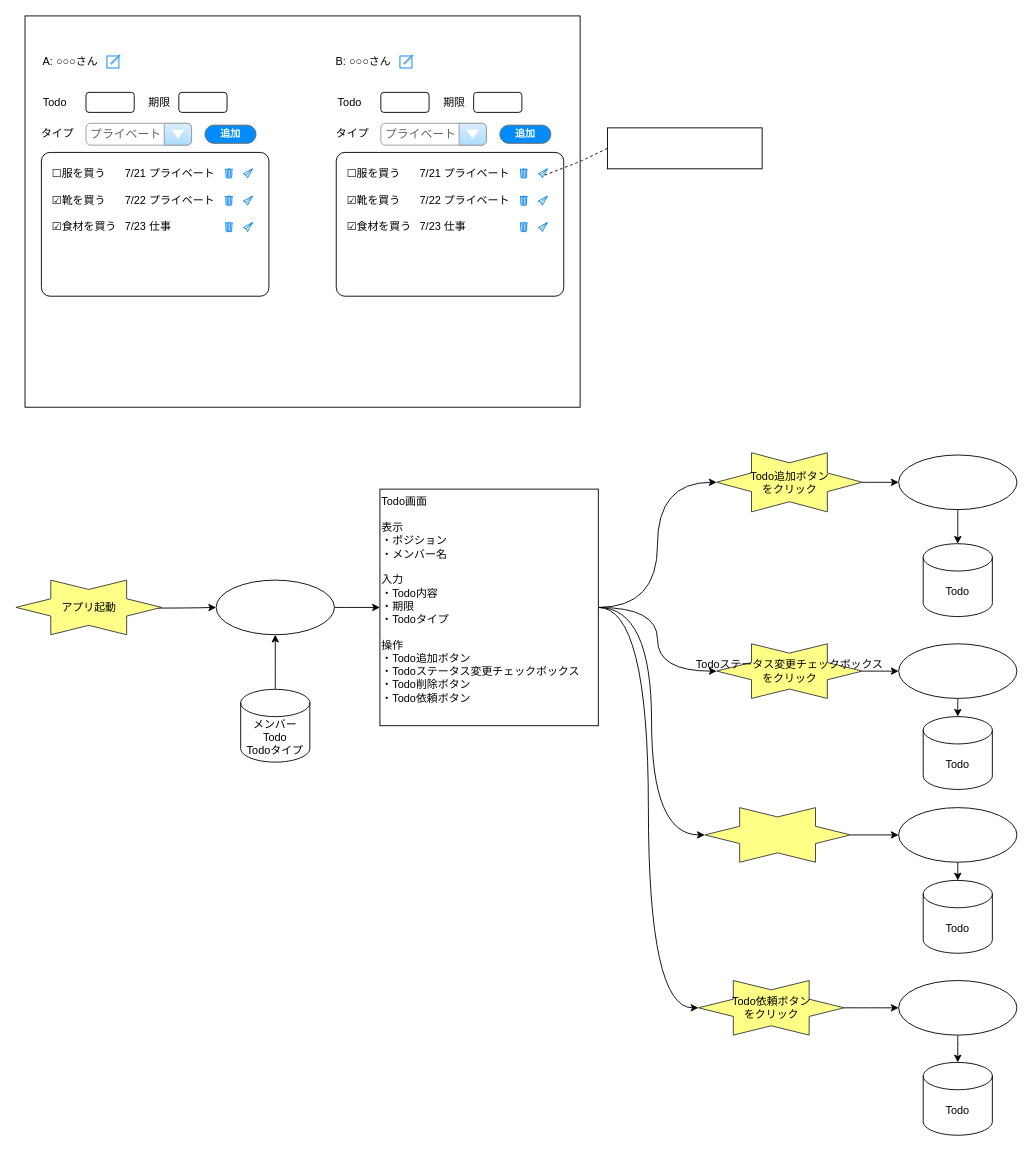
The diagram is 1033 pixels wide and 1151 high, and some of its shapes have lost their labels. The shapes that lost their labels are listed below. From the top down, each one's centre as x and y in pixels, then its label:
At (x=684, y=148): "もう片方のメンバーにTodoを渡す。".
At (x=957, y=482): "Todoを追加する。".
At (x=274, y=607): "初期処理を行う。".
At (x=957, y=670): "Todoのステータスを変更する。".
At (x=777, y=834): "Todo削除ボタン をクリック".
At (x=957, y=834): "Todoを削除する。".
At (x=957, y=1007): "Todoを別のメンバーに渡す。".
